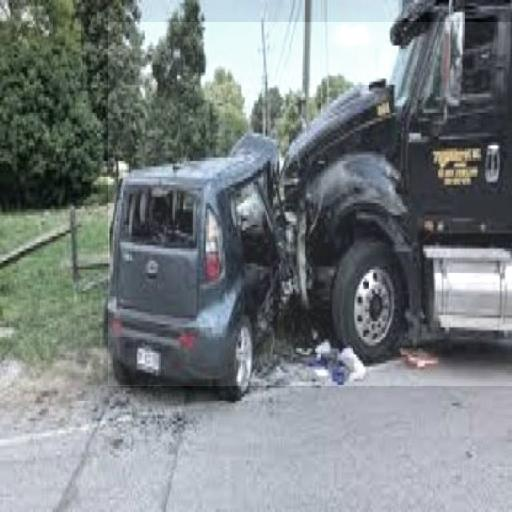小汽车撞小汽车: (108, 22, 512, 386)
